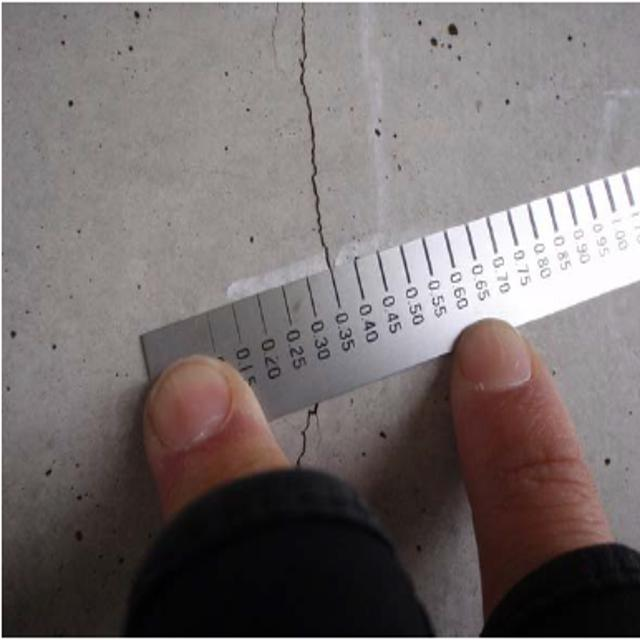crack: (268, 0, 377, 281), (274, 401, 336, 476)
